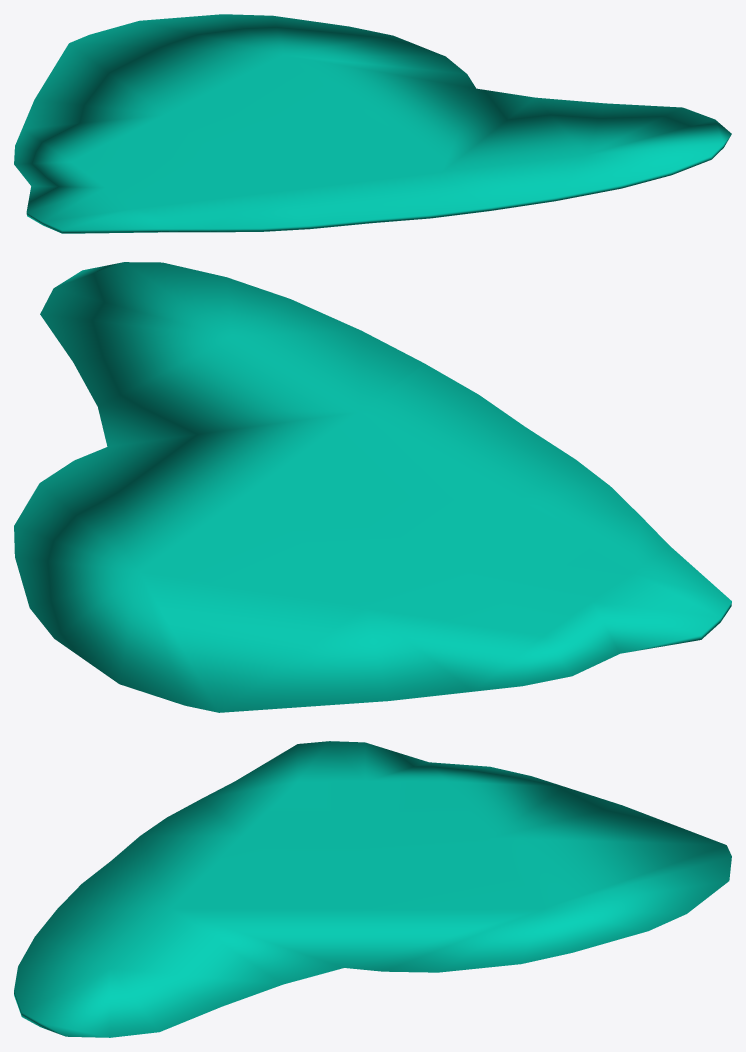
File: leftWing.obj
3 renders of one model, top to bottom at view 1: azimuth 30°, elevation 25°; view 2: azimuth 150°, elevation 25°; view 3: azimuth 270°, elevation 25°, orthographic. The views are drawn at different scales.
Visible parts, largest first — view 1: mon_wing; view 2: mon_wing; view 3: mon_wing.
Boxes of the visible parts, x1,y1,x2,y2 form: mon_wing: (14, 14, 731, 233); mon_wing: (14, 262, 731, 712); mon_wing: (14, 741, 731, 1037).
Bounding box in the file's own units: 3.27 × 0.2011 × 2.99.
